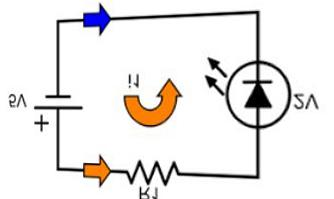resistor: (121, 152, 187, 186)
